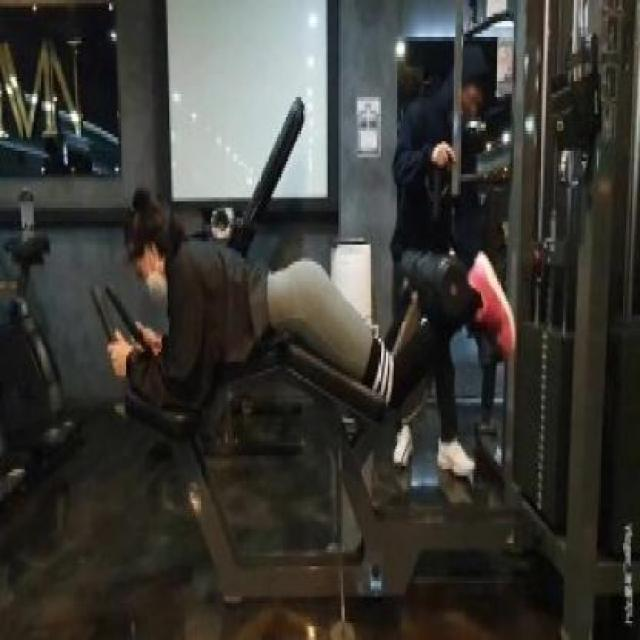reg curl machine: (89, 0, 640, 612)
